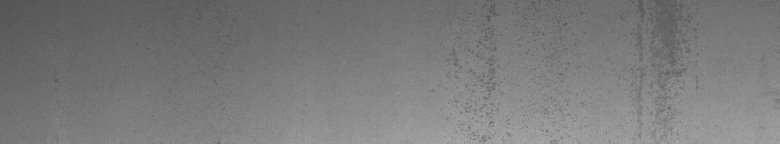ib: (447, 5, 571, 136)
